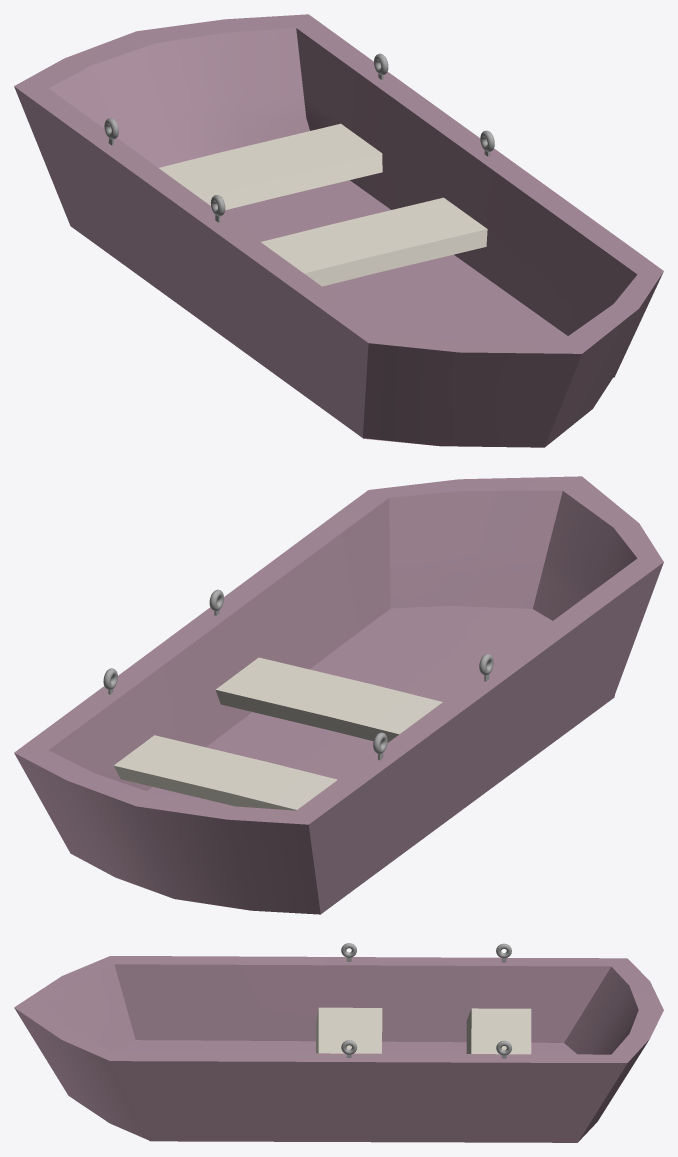
Rendered from SM_Boat_001.fbx.
The picture shows the model from 3 angles, top to bottom: view 1: azimuth 30°, elevation 25°; view 2: azimuth 150°, elevation 25°; view 3: azimuth 270°, elevation 25°; orthographic projection. The views are drawn at different scales.
Parts seen in each view (by area): view 1: SM_Boat; view 2: SM_Boat; view 3: SM_Boat.
Boxes of the visible parts, bbox=[...] form: SM_Boat: bbox=[14, 14, 663, 447]; SM_Boat: bbox=[14, 476, 663, 914]; SM_Boat: bbox=[14, 943, 663, 1142].
Size of the model in its own units: 342 by 163 by 892.
